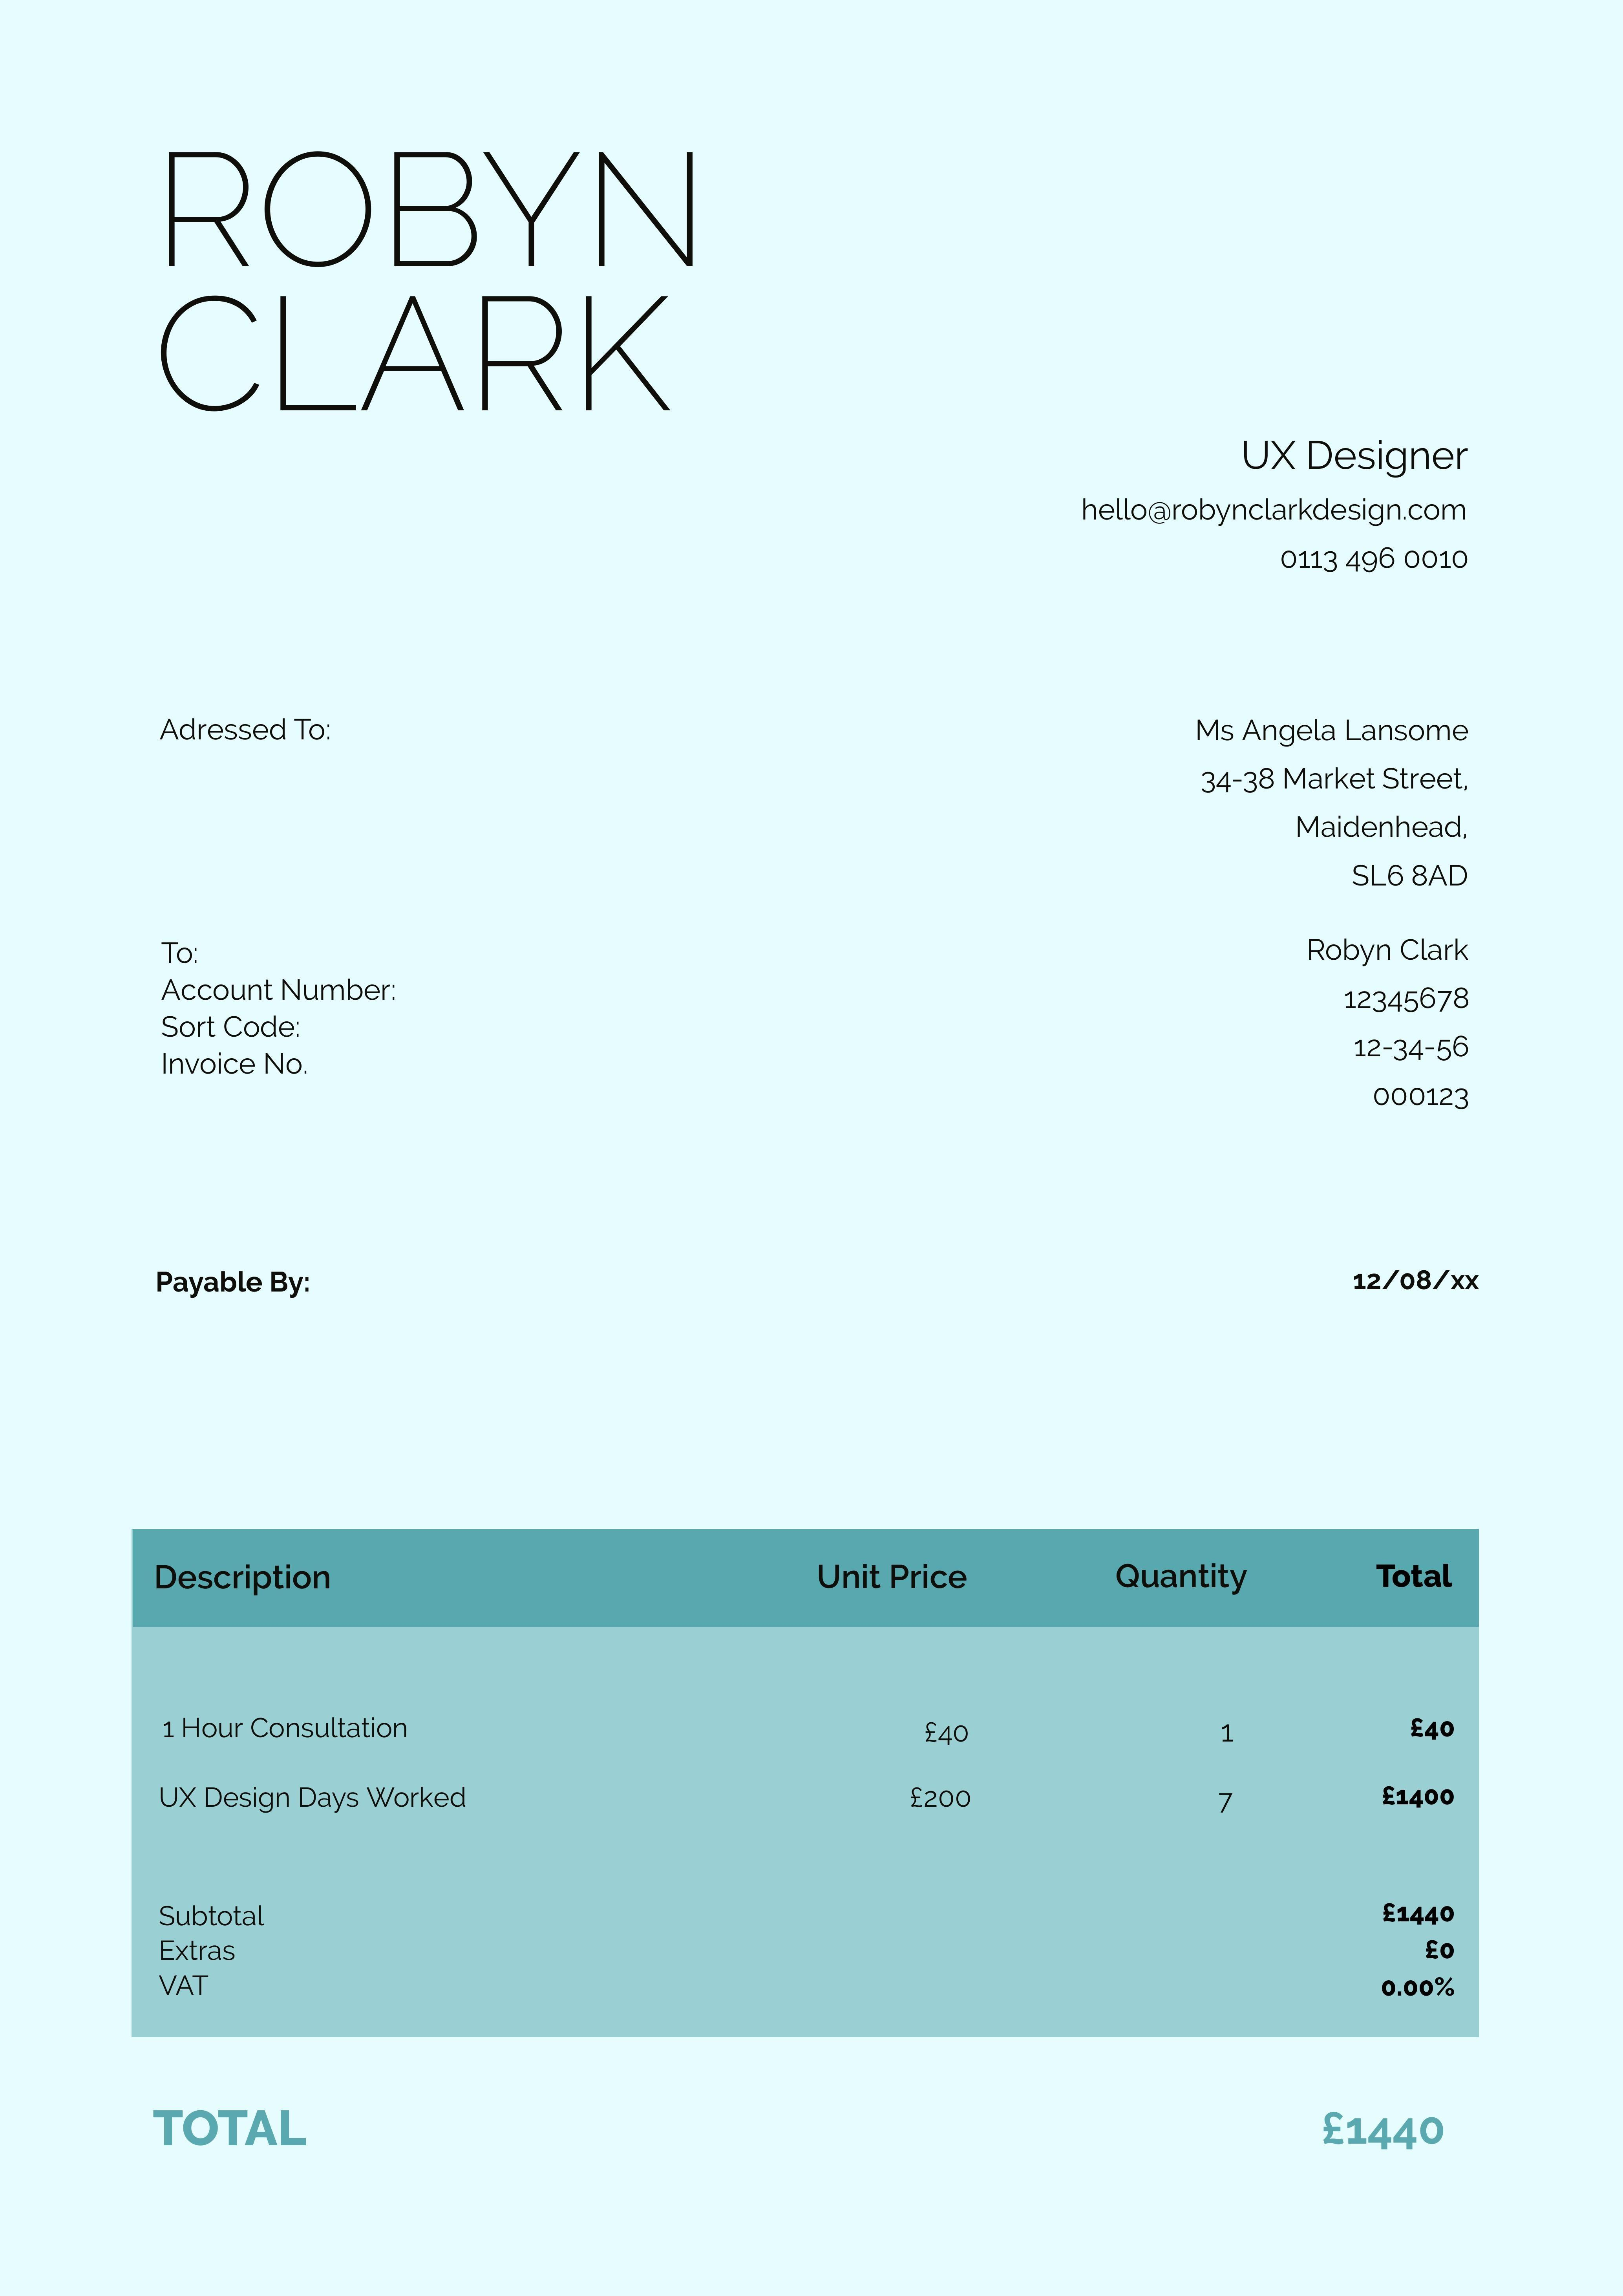ROI: (153, 136, 1515, 595), (151, 1556, 1469, 2007), (149, 2097, 1469, 2172), (144, 1251, 1497, 1304), (1184, 706, 1490, 893), (1228, 929, 1490, 1126)
